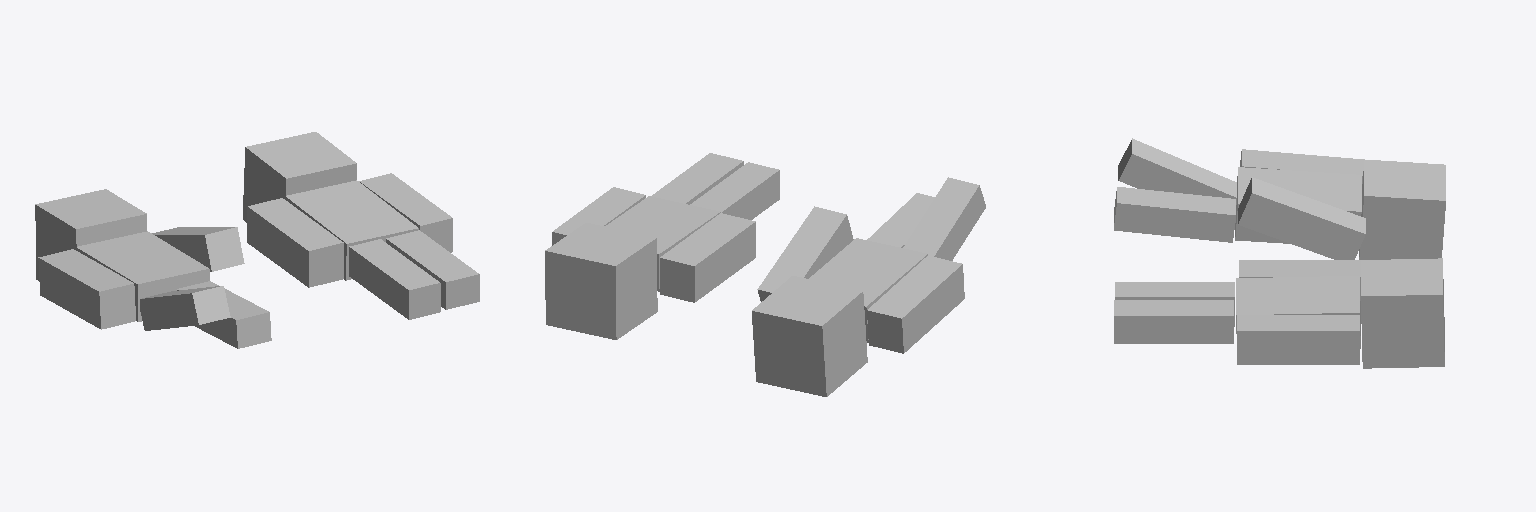
File: steve_000029.obj
3 renders of one model, left to right at view 1: azimuth 30°, elevation 25°; view 2: azimuth 150°, elevation 25°; view 3: azimuth 270°, elevation 25°, orthographic.
Parts seen in each view (by area): view 1: Cube.001_Cube.002, Cube_Cube.001; view 2: Cube_Cube.001, Cube.001_Cube.002; view 3: Cube.001_Cube.002, Cube_Cube.001.
Part boxes in pixels (bbox=[...]): Cube.001_Cube.002: bbox=[243, 132, 479, 319]; Cube_Cube.001: bbox=[35, 189, 271, 348]; Cube_Cube.001: bbox=[752, 177, 985, 396]; Cube.001_Cube.002: bbox=[545, 153, 779, 339]; Cube.001_Cube.002: bbox=[1114, 258, 1444, 368]; Cube_Cube.001: bbox=[1114, 138, 1445, 259].
Bounding box in the file's own units: 6.55 × 1.8 × 5.37.